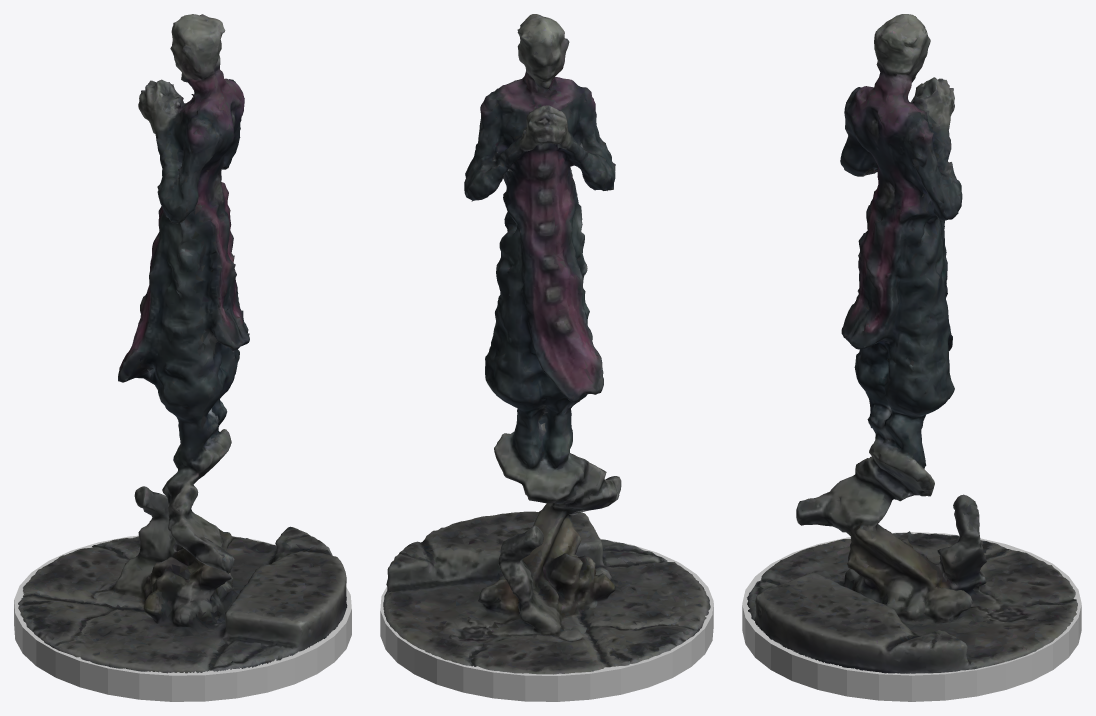
The picture shows the model from 3 angles, left to right: view 1: azimuth 30°, elevation 25°; view 2: azimuth 150°, elevation 25°; view 3: azimuth 270°, elevation 25°; orthographic projection.
Parts seen in each view (by area): view 1: EbonyMaw, default; view 2: EbonyMaw, default; view 3: EbonyMaw, default.
Part boxes in pixels (<box>): EbonyMaw: <box>18,14,347,673</box>; default: <box>14,535,351,701</box>; EbonyMaw: <box>383,14,710,674</box>; default: <box>380,538,713,701</box>; EbonyMaw: <box>747,14,1077,673</box>; default: <box>742,532,1081,701</box>.
Bounding box in the file's own units: 1.38 × 2.77 × 1.38.
2 materials, 1 textured.
